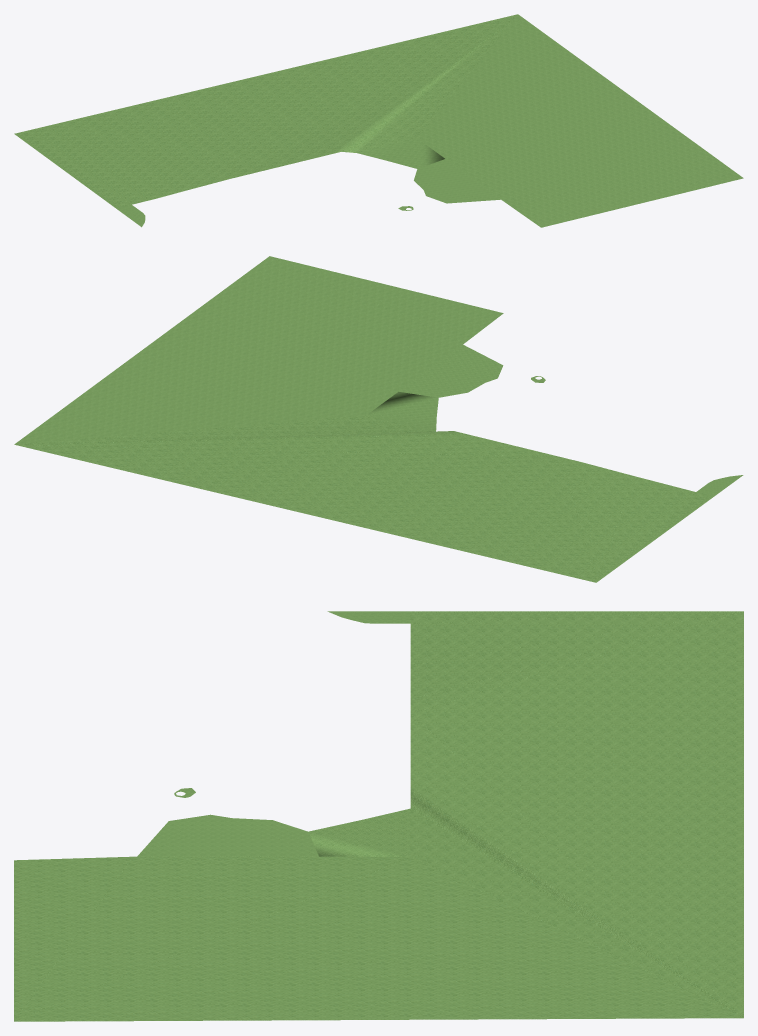
File: kd_stage_135ded_4_136.glb
The picture shows the model from 3 angles, top to bottom: view 1: azimuth 30°, elevation 25°; view 2: azimuth 150°, elevation 25°; view 3: azimuth 270°, elevation 25°; orthographic projection. The views are drawn at different scales.
Visible parts, largest first — view 1: kd_stage_135ded_4_136; view 2: kd_stage_135ded_4_136; view 3: kd_stage_135ded_4_136.
Boxes of the visible parts, x1,y1,x2,y2 form: kd_stage_135ded_4_136: (14,14,743,227); kd_stage_135ded_4_136: (14,256,743,582); kd_stage_135ded_4_136: (14,611,743,1021).
Size of the model in its own units: 26.97 by 0.3127 by 20.63.
1 material, 1 textured.
